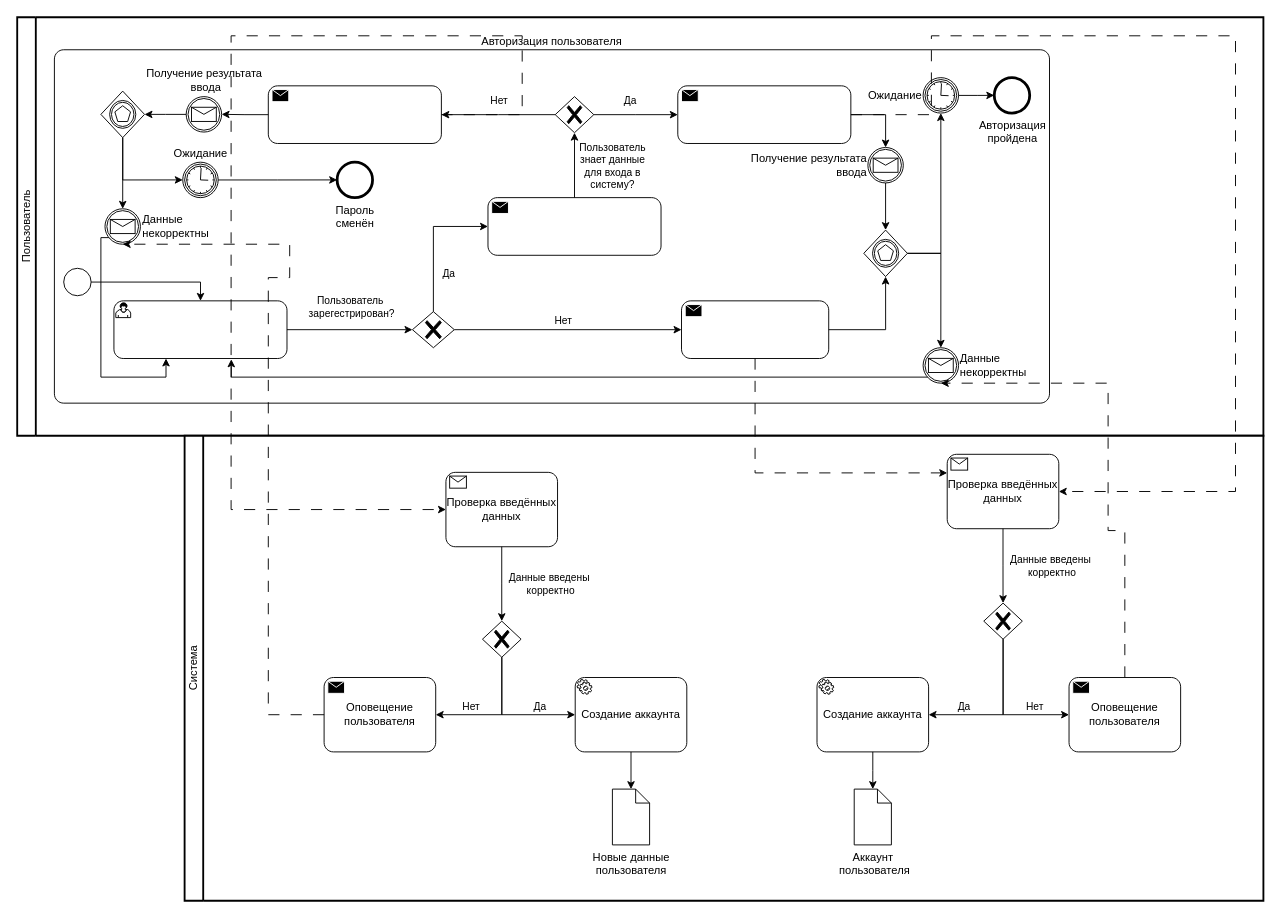
Image size: 1280x917. Some labels were removed from this diagram. The shapes that lost their labels are listed below. From the top down, each one's centre as x and y in pixels, then its label:
point 354,114: Смена пароля
point 764,114: Ввод логина и пароля
point 574,226: Авторизация
point 77,281: Вход в систему
point 200,329: Войти как пользователь
point 755,329: Регистрация
